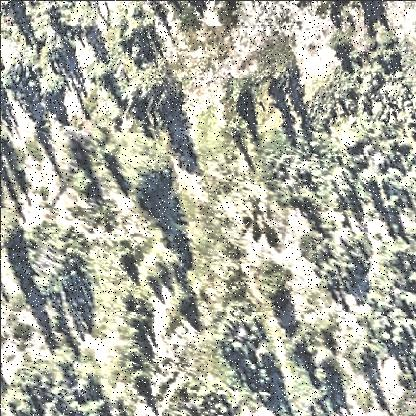tree-top: (264, 151, 322, 207), (320, 234, 369, 289), (126, 70, 175, 116), (132, 158, 178, 198), (254, 47, 300, 87), (253, 262, 295, 300), (54, 232, 91, 273), (369, 313, 412, 345), (218, 79, 258, 113), (17, 362, 53, 398), (123, 6, 153, 42), (52, 8, 87, 38), (66, 371, 99, 399), (36, 72, 66, 102), (108, 242, 139, 271), (382, 239, 411, 270), (340, 125, 368, 157), (309, 348, 339, 371), (329, 36, 355, 62), (1, 221, 23, 250), (250, 370, 281, 390), (60, 125, 88, 147), (378, 49, 402, 74), (126, 369, 152, 391), (171, 291, 196, 313), (358, 169, 380, 191), (88, 63, 110, 83)
